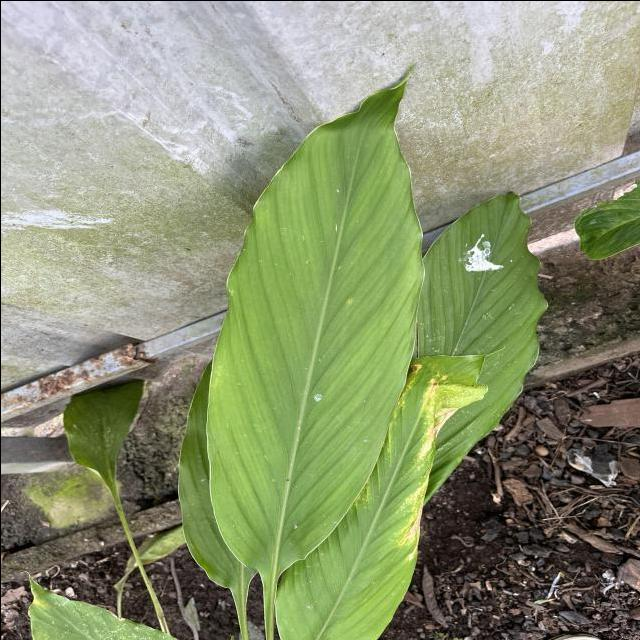Curcuma longa: (198, 57, 426, 586), (422, 186, 550, 500)
